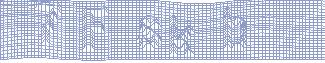7: (31, 1, 63, 47)
F: (78, 5, 112, 55)
b: (221, 4, 251, 52)
k: (168, 13, 196, 59)
s: (133, 13, 165, 53)
